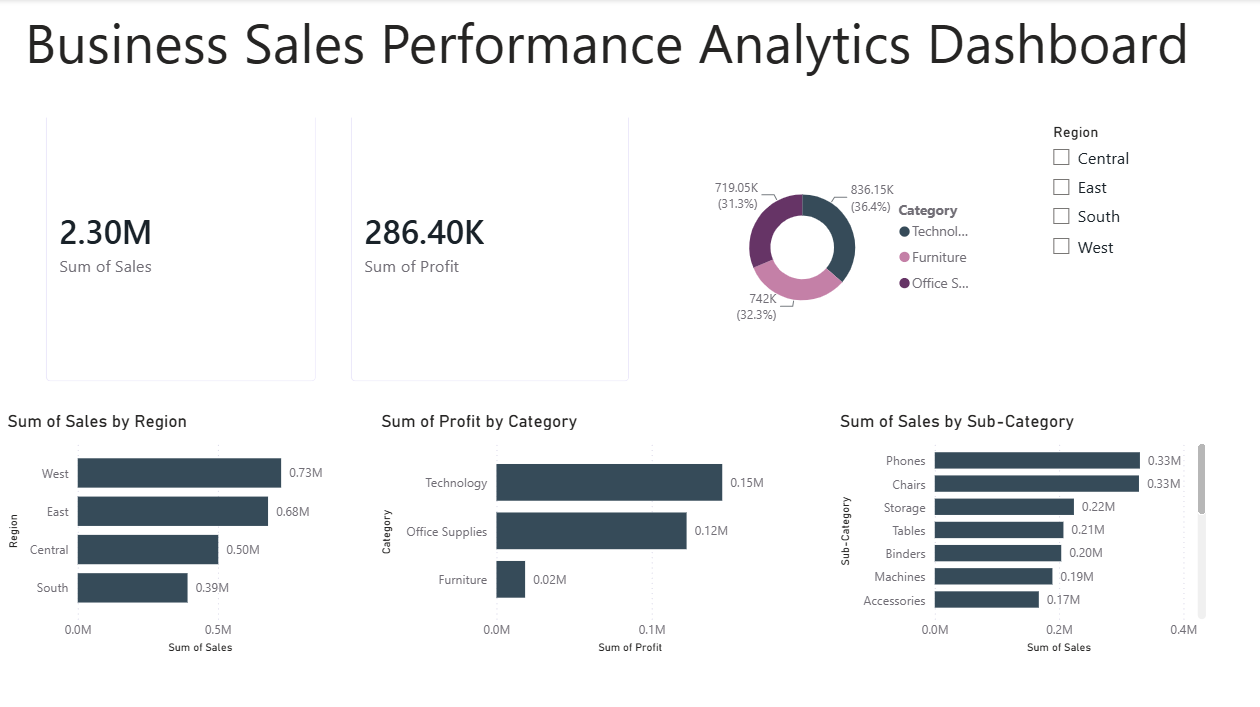

The dashboard page shown, as its layout file describes it:
{"tool":"powerbi","page":{"name":"Page 1","canvas":[1280,720],"ordinal":0},"visuals":[{"type":"cardVisual","fields":{"Data":["Sum(SampleSuperstore.Sales)"]},"box":[52.6,83.2,298.4,308.2],"z":0},{"type":"cardVisual","fields":{"Data":["Sum(SampleSuperstore.Profit)"]},"box":[351,83.2,306.9,308.2],"z":1000},{"type":"donutChart","fields":{"Category":["SampleSuperstore.Category"],"Y":["Sum(SampleSuperstore.Sales)"]},"box":[710.5,83.2,280,300.8],"z":2000},{"type":"clusteredBarChart","fields":{"Category":["SampleSuperstore.Region"],"Y":["Sum(SampleSuperstore.Sales)"]},"box":[26.9,402.3,332.6,243.3],"z":3000},{"type":"clusteredBarChart","fields":{"Category":["SampleSuperstore.Category"],"Y":["Sum(SampleSuperstore.Profit)"]},"box":[392.5,402.3,398.6,243.3],"z":4000},{"type":"clusteredBarChart","fields":{"Category":["SampleSuperstore.Sub-Category"],"Y":["Sum(SampleSuperstore.Sales)"]},"box":[841.3,402.3,368.1,243.3],"z":5000},{"type":"textbox","box":[0,0,1280.3,116.2],"z":6000},{"type":"slicer","fields":{"Values":["SampleSuperstore.Region"]},"box":[1041.9,116.2,204.2,264.1],"z":7000}]}

Visuals, with their boxes in screenshot pixels (x1, y1, x2, y2), scaled from the page's 1280x720 canvas onto the 1260x707 screenshot:
cardVisual - Sum(SampleSuperstore.Sales): [x1=52, y1=82, x2=346, y2=384]
cardVisual - Sum(SampleSuperstore.Profit): [x1=346, y1=82, x2=648, y2=384]
donutChart - SampleSuperstore.Category x Sum(SampleSuperstore.Sales): [x1=699, y1=82, x2=975, y2=377]
clusteredBarChart - SampleSuperstore.Region x Sum(SampleSuperstore.Sales): [x1=26, y1=395, x2=354, y2=634]
clusteredBarChart - SampleSuperstore.Category x Sum(SampleSuperstore.Profit): [x1=386, y1=395, x2=779, y2=634]
clusteredBarChart - SampleSuperstore.Sub-Category x Sum(SampleSuperstore.Sales): [x1=828, y1=395, x2=1191, y2=634]
textbox: [x1=0, y1=0, x2=1259, y2=114]
slicer - SampleSuperstore.Region: [x1=1026, y1=114, x2=1227, y2=373]
